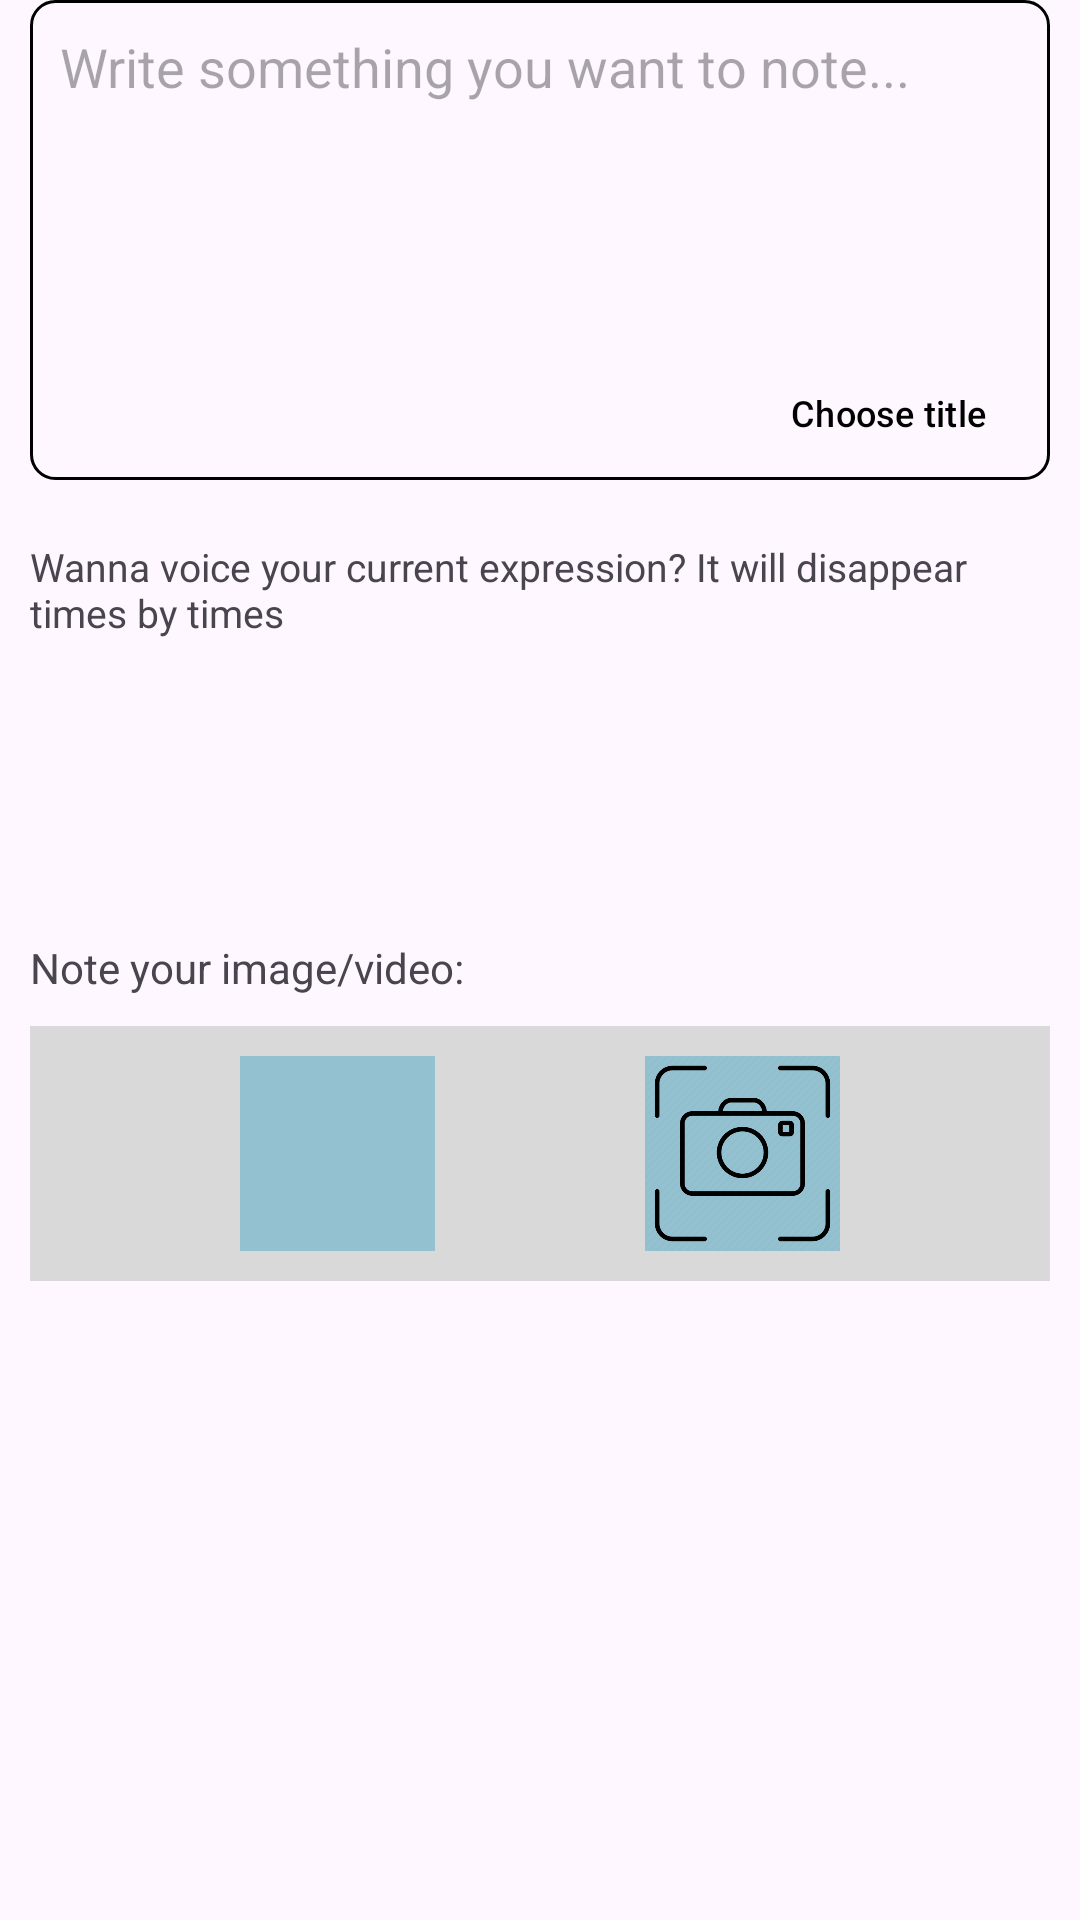

Locate icon controls on the screen. Image size 1080 x 1920, boxes as [x1,y1,x2,y2].
take photo: [645,1056,840,1251]
